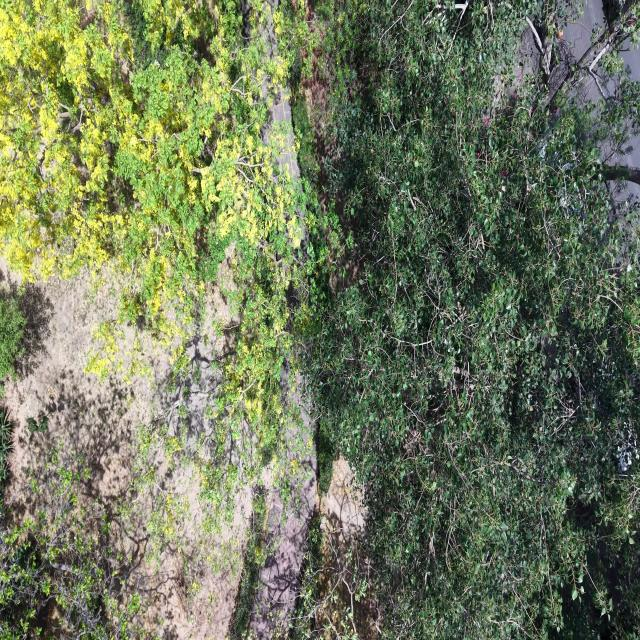DRY_AREA: (2, 274, 250, 639), (4, 274, 250, 639), (250, 361, 364, 639), (250, 371, 365, 639), (250, 360, 317, 639), (250, 377, 317, 639), (313, 456, 381, 639), (319, 456, 366, 542), (563, 0, 616, 60)
PATHWAYS: (250, 363, 316, 639)
VEGETATION_TREE: (0, 0, 639, 639), (308, 0, 639, 638), (0, 0, 325, 504), (0, 0, 308, 529), (0, 2, 298, 332), (0, 448, 141, 639), (0, 296, 25, 383), (0, 410, 14, 493)
